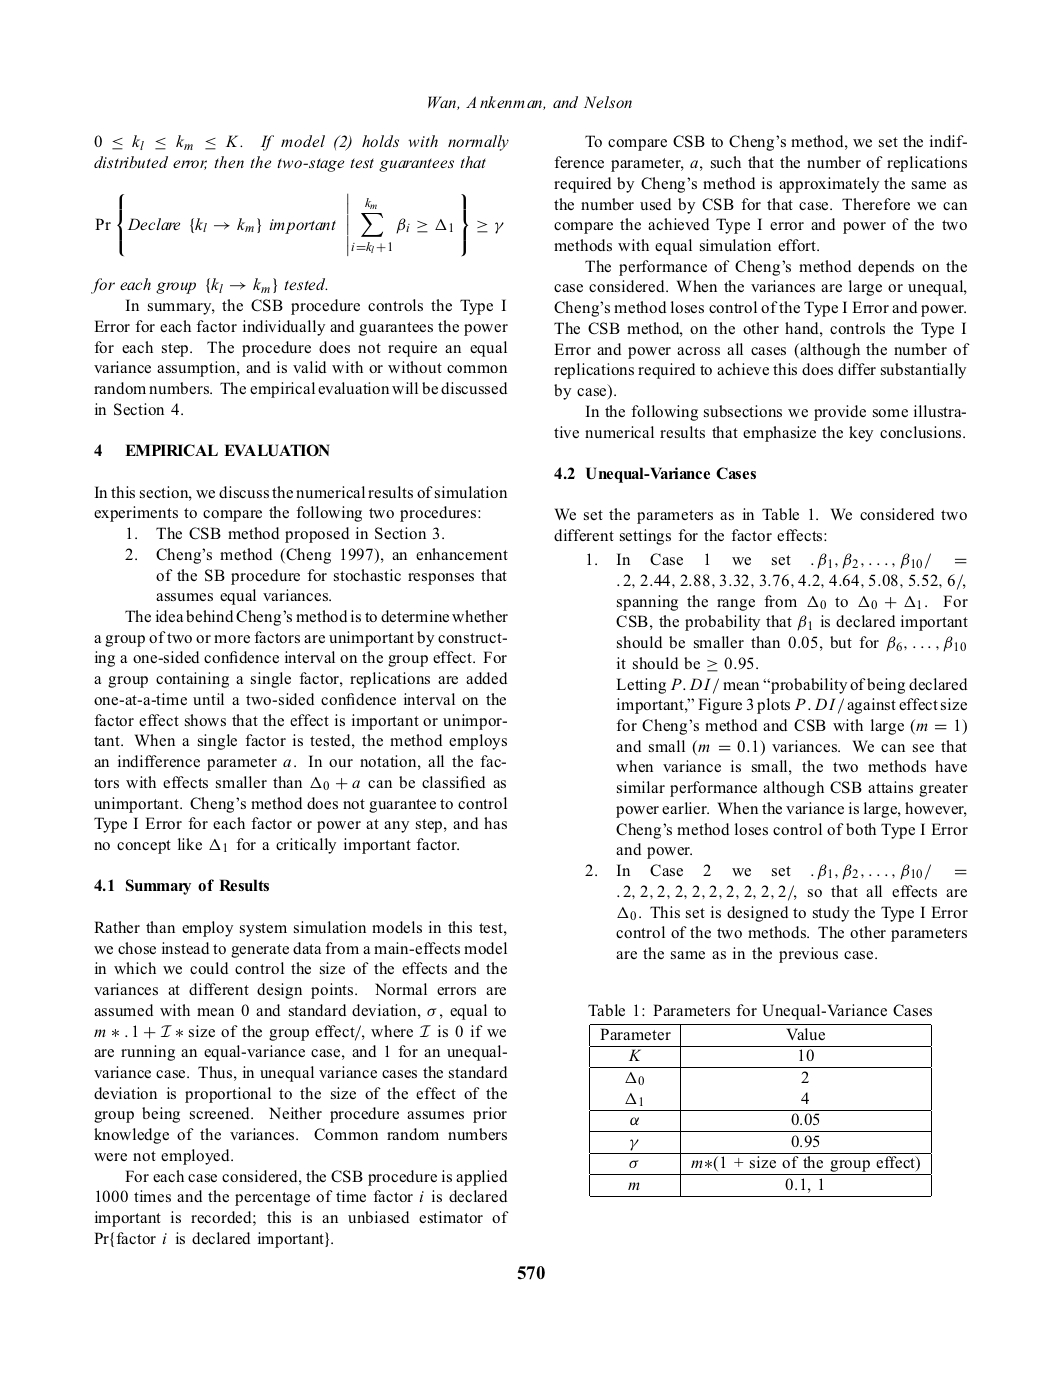Table: (588, 1022, 931, 1197)
formula: (95, 192, 503, 257)
